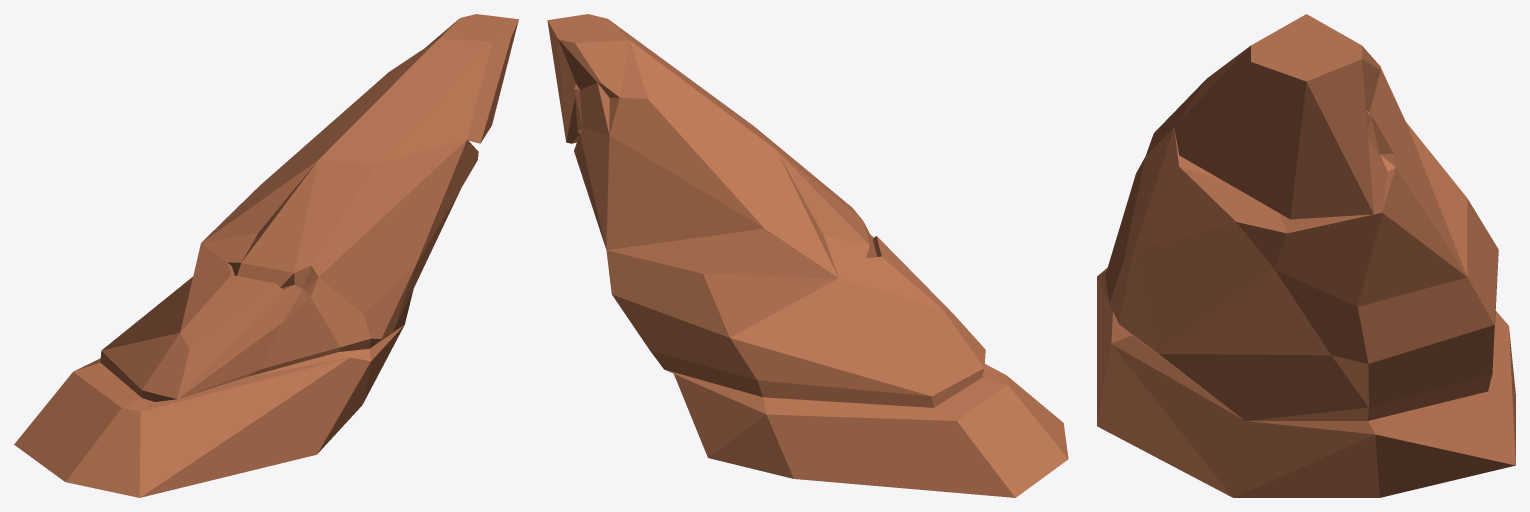
File: Big_Rock_002.fbx
3 views of the same model, side by side, from view 1: azimuth 30°, elevation 25°; view 2: azimuth 150°, elevation 25°; view 3: azimuth 270°, elevation 25° (orthographic). The views are drawn at different scales.
Parts seen in each view (by area): view 1: Big_Rock_002; view 2: Big_Rock_002; view 3: Big_Rock_002.
Boxes of the visible parts, bbox=[...] form: Big_Rock_002: bbox=[14, 14, 518, 497]; Big_Rock_002: bbox=[547, 14, 1068, 497]; Big_Rock_002: bbox=[1097, 14, 1515, 497].
Bounding box in the file's own units: 14.66 × 9.56 × 6.41.
